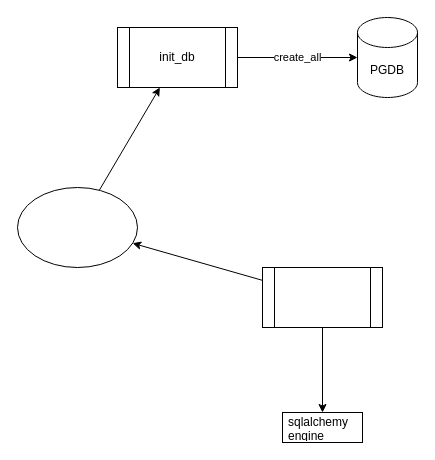
Some shapes in this 435 by 460 pixel diagram are drawn without their labels. Each missing label, with the centre of its shape:
"get_engine" belongs at (x=322, y=297).
"start" belongs at (x=77, y=227).
